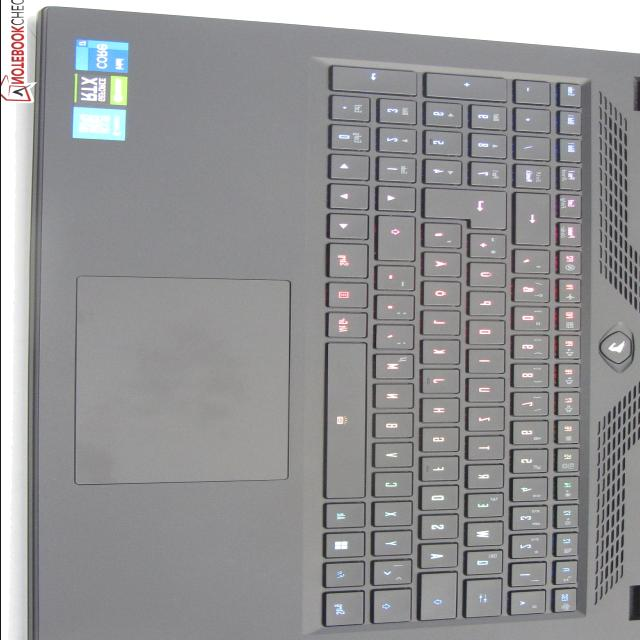0: (511, 306, 549, 332)
1: (512, 563, 550, 589)
2: (512, 534, 551, 560)
3: (512, 506, 550, 532)
4: (512, 479, 551, 504)
5: (513, 450, 551, 476)
6: (513, 422, 552, 448)
7: (514, 392, 552, 418)
8: (514, 364, 553, 390)
9: (514, 335, 552, 361)
a: (421, 544, 463, 571)
accent: (515, 252, 553, 276)
ae: (423, 253, 465, 279)
alt-left: (325, 503, 369, 530)
altgr-right: (327, 314, 372, 341)
b: (375, 414, 418, 441)
c: (375, 472, 418, 499)
caret: (510, 591, 548, 615)
comma: (376, 326, 418, 352)
d: (421, 486, 463, 512)
del: (515, 195, 554, 248)
e: (468, 493, 508, 520)
enter: (425, 191, 512, 231)
f: (422, 457, 463, 483)
g: (422, 428, 464, 454)
h: (422, 399, 464, 425)
hash: (424, 225, 466, 251)
i: (469, 350, 510, 376)
j: (422, 370, 464, 396)
k: (422, 340, 464, 366)
keyboard: (309, 64, 595, 632)
l: (423, 311, 465, 337)
less: (374, 561, 417, 588)
m: (374, 355, 418, 382)
minus: (377, 267, 419, 294)
n: (375, 384, 418, 411)
o: (469, 321, 507, 347)
oe: (423, 282, 465, 308)
p: (470, 292, 510, 318)
plus: (470, 235, 511, 261)
point: (377, 297, 419, 323)
q: (467, 550, 507, 577)
r: (467, 465, 508, 491)
s: (421, 516, 462, 542)
shift-left: (373, 590, 415, 626)
shift-lock: (420, 572, 461, 622)
shift-right: (377, 217, 419, 263)
space: (326, 343, 371, 501)
ss: (515, 279, 553, 305)
strg-left: (324, 592, 368, 629)
strg-right: (328, 243, 372, 281)
t: (468, 436, 509, 462)
tab: (466, 580, 506, 620)
u: (468, 379, 509, 405)
ue: (470, 264, 510, 290)
v: (375, 443, 418, 470)
w: (468, 523, 508, 548)
x: (375, 502, 417, 528)
y: (374, 532, 416, 558)
z: (468, 408, 509, 434)
